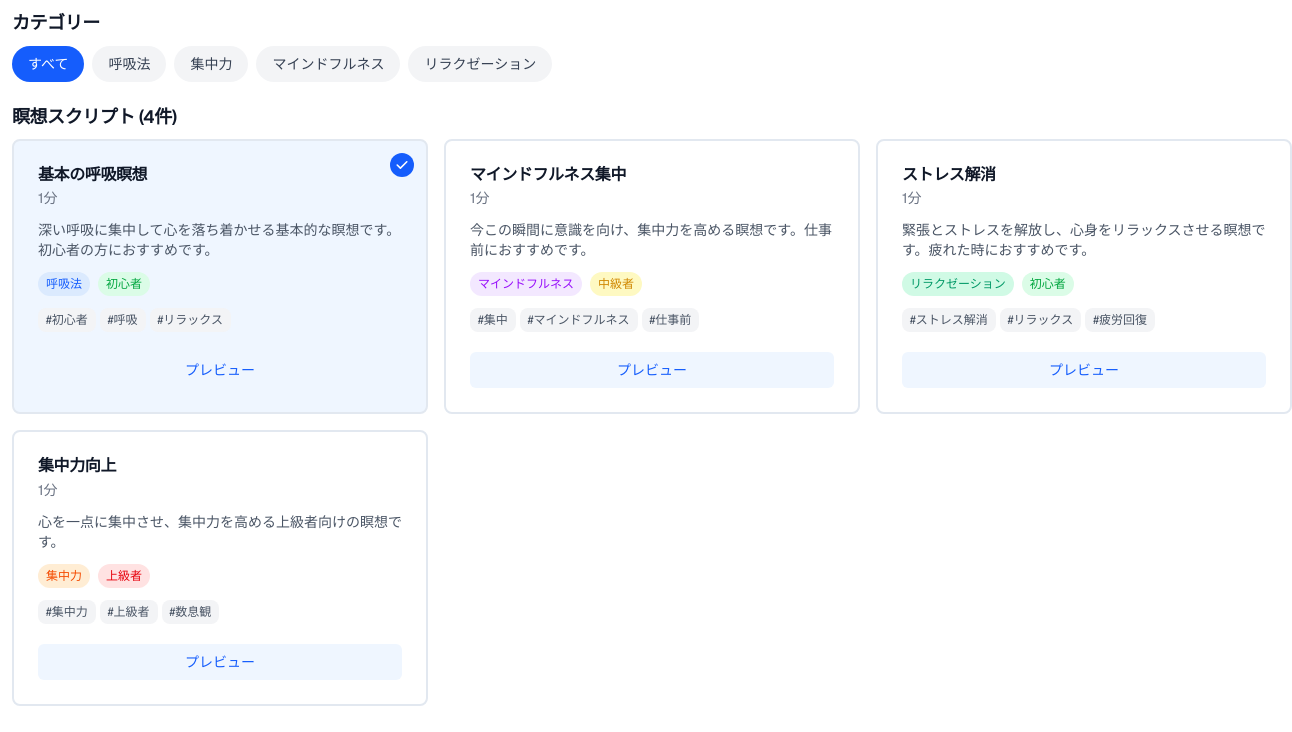
Scenario: ScriptSelector › filters scripts by category
The width and height of the screenshot is (1292, 732).
Note: Click on breathing category
Click the button "呼吸法".
click(130, 64)  # box 92,46 -> 166,82
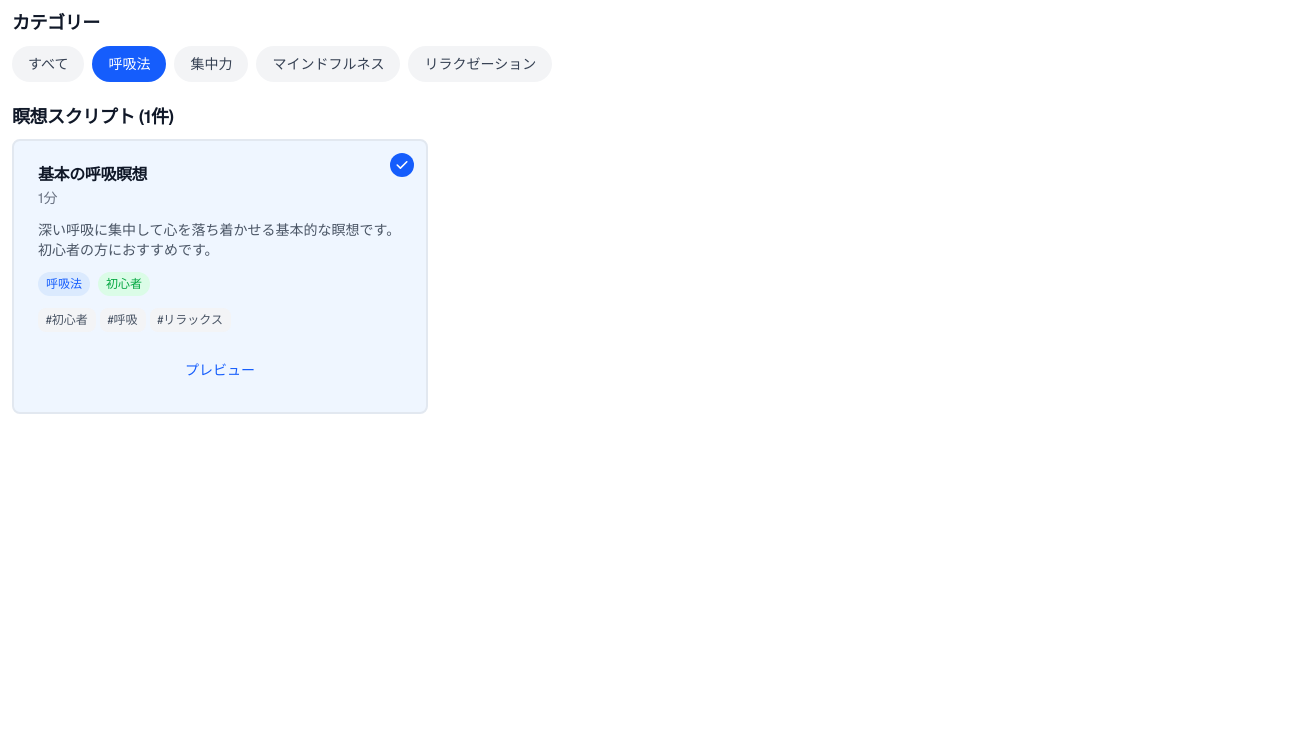
Expected: the heading "基本の呼吸瞑想" is shown, 38,164 -> 147,185
Expected: the heading "瞑想スクリプト (1件)" is shown, 12,105 -> 174,128
Expected: the heading "マインドフルネス集中" is gone
